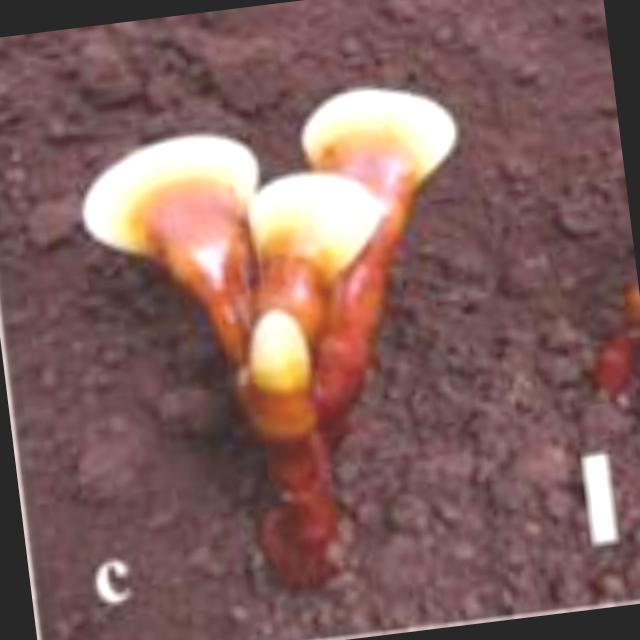ganoderma: (69, 122, 275, 276), (294, 73, 471, 216), (243, 162, 396, 295)
primordium: (240, 303, 320, 400)
